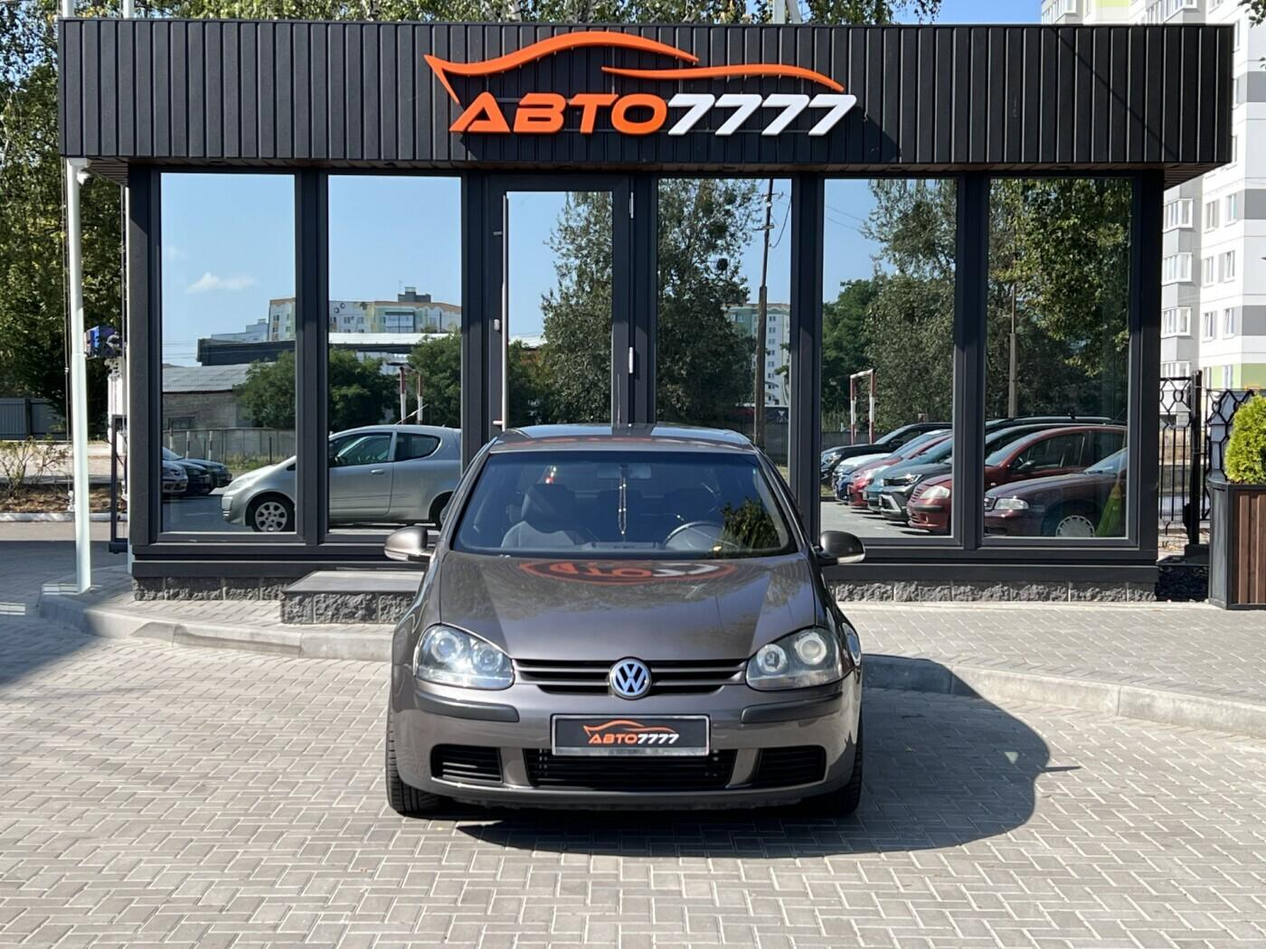Golf_2003-2009: (380, 422, 886, 819)
